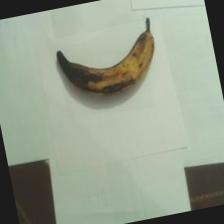Banana Rotten: (47, 20, 174, 112)
